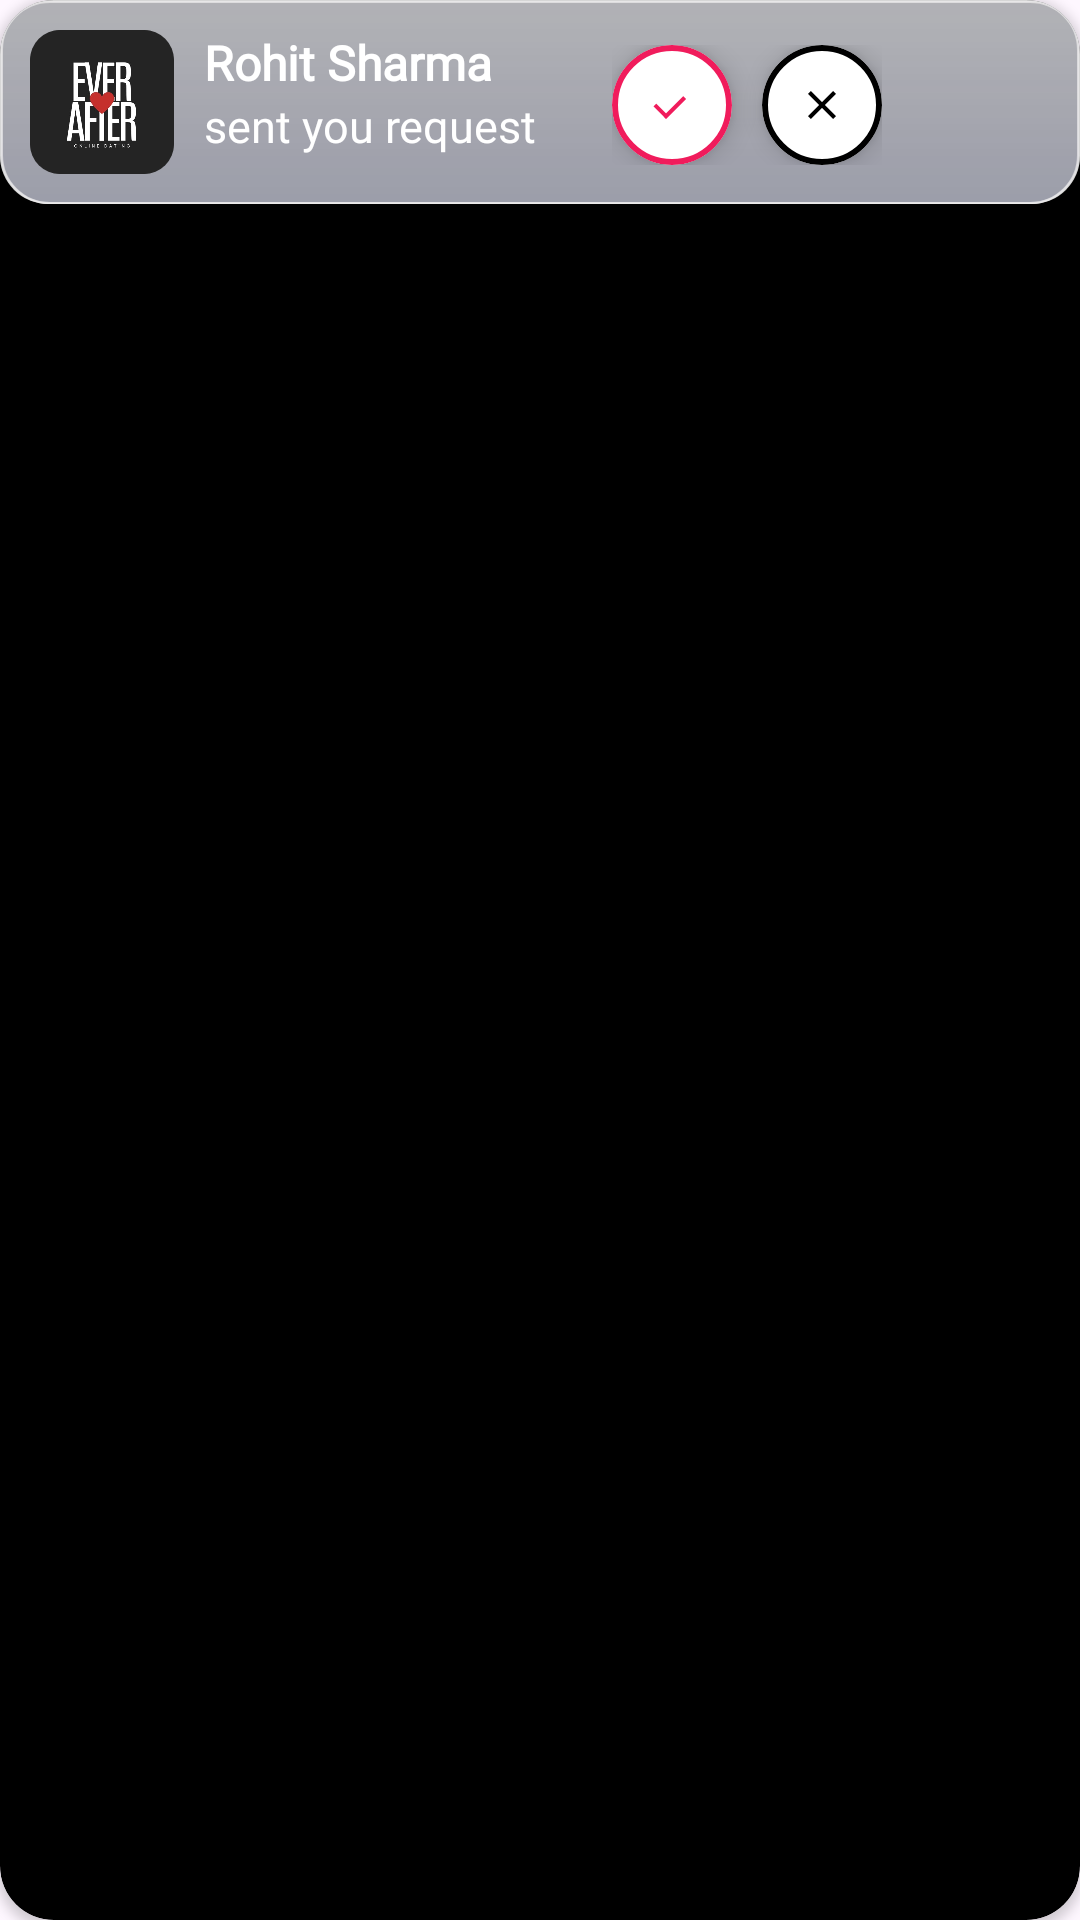

Where to tap for icons on this 1080px x 1920px app screen, as [x,y]:
check: [672,105]
wrong: [822,105]
